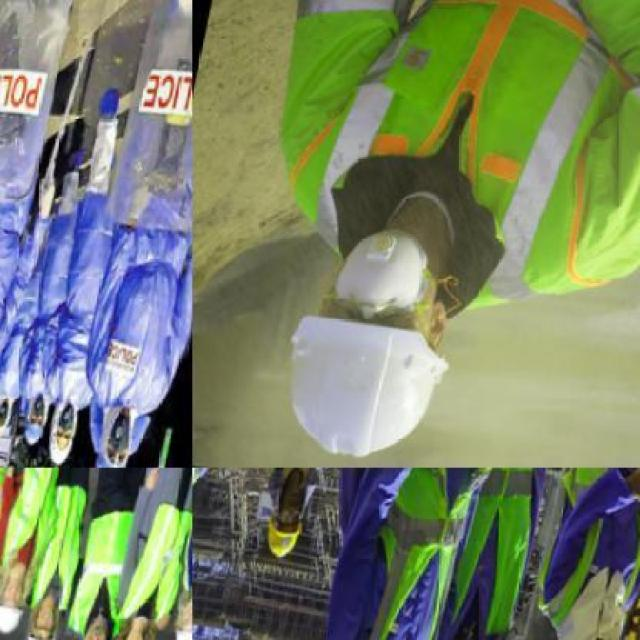helmet: (282, 316, 454, 468)
jacket: (278, 0, 640, 303), (68, 506, 134, 638), (125, 503, 191, 628), (0, 469, 52, 594)
